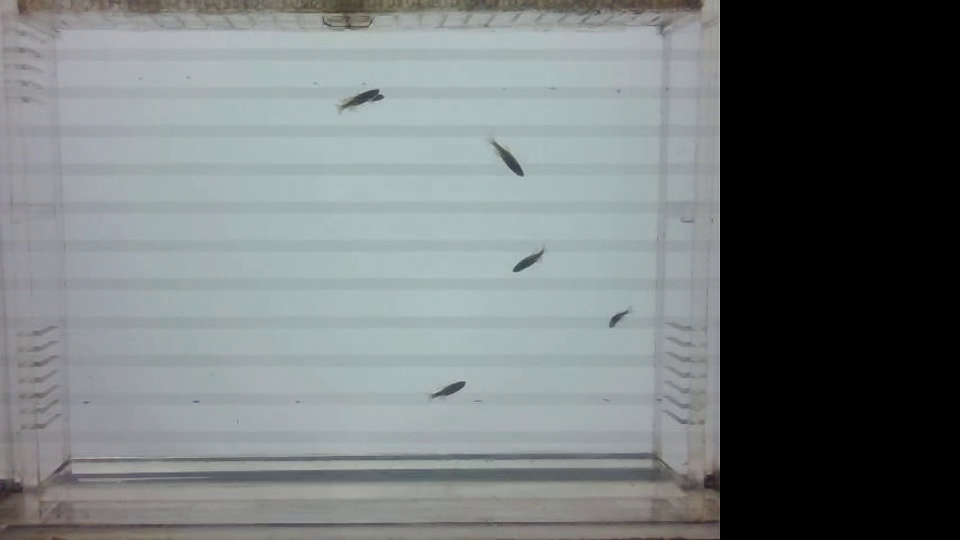fish: (412, 374, 484, 409), (590, 292, 641, 340), (504, 240, 546, 280), (492, 136, 524, 180), (334, 88, 377, 109), (340, 92, 385, 104)
